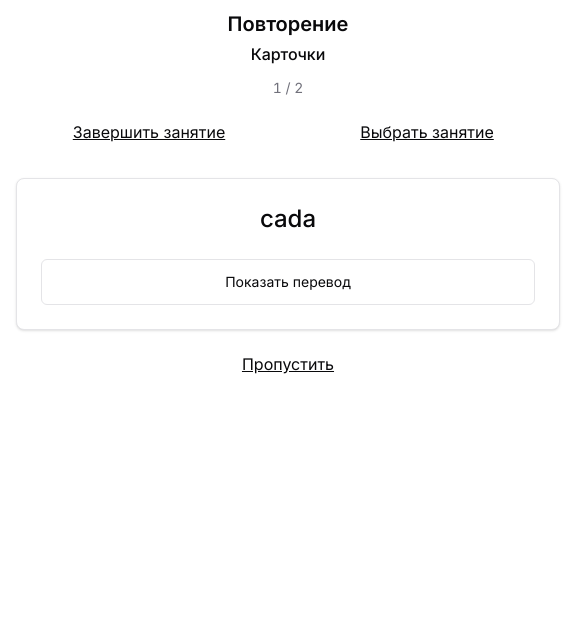
Test: ReviewPage session flow (cards mode) › flip -> GradeBar click -> next card -> final screen with stats
Click the button "Показать перевод" at (288, 282), box [41,259,535,305]
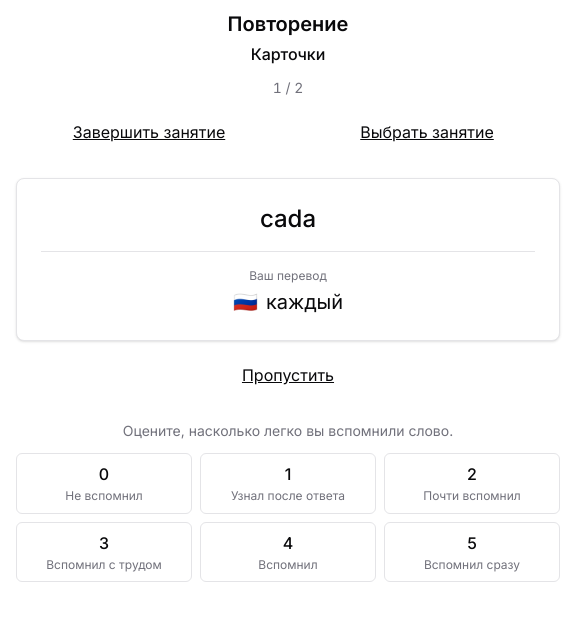
Click the button "5 Вспомнил сразу" at (472, 552), box [384,522,560,582]
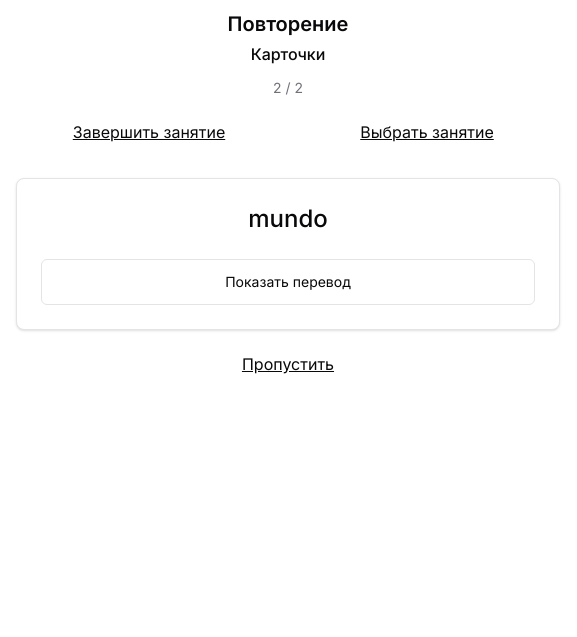
Expected: the text "mundo" is shown, [248,204,328,233]
Expected: the text "2 / 2" is shown, [273,79,303,96]
Click the button "Показать перевод" at (288, 282), box [41,259,535,305]
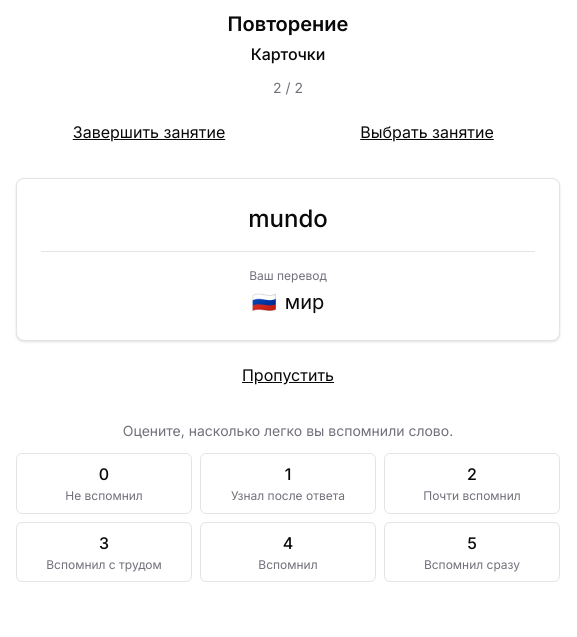
Click the button "2 Почти вспомнил" at (472, 483), box [384,453,560,514]
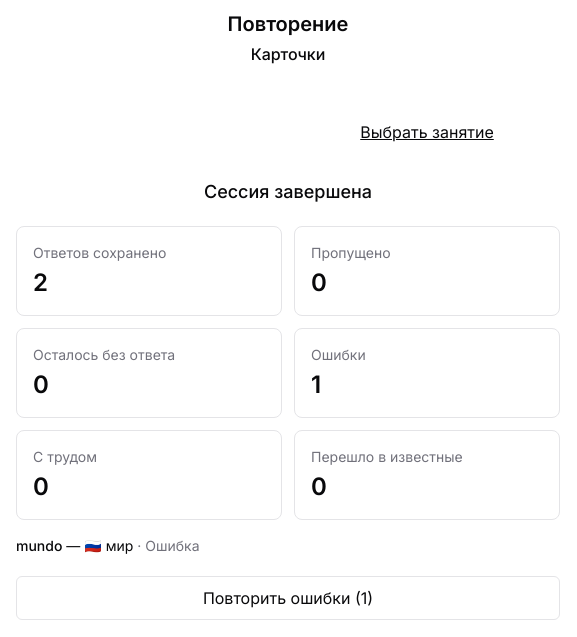
Expected: the text "2" is shown, [33,268,48,297]
Expected: the heading "Сессия завершена" is shown, [204,181,372,202]
Expected: the list item "mundo" shows "мир", [106,537,133,554]
